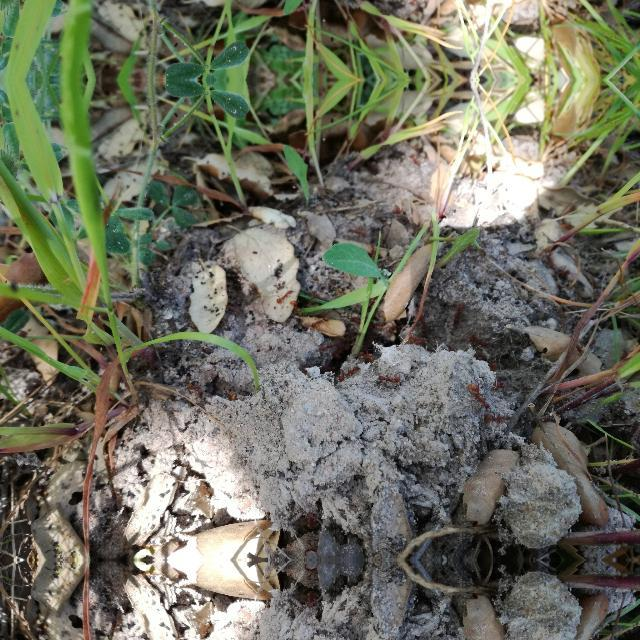Apheanogaster: (371, 202, 405, 230), (475, 408, 517, 426), (464, 379, 488, 409), (444, 298, 468, 326), (370, 372, 404, 391), (335, 362, 363, 384), (466, 332, 496, 351), (302, 506, 324, 530), (302, 590, 324, 614), (318, 332, 340, 352), (308, 312, 332, 330), (272, 286, 296, 304), (356, 342, 376, 362), (286, 296, 304, 316), (346, 226, 369, 240), (417, 310, 431, 332), (367, 318, 389, 332), (468, 244, 490, 258), (368, 240, 382, 260), (552, 265, 572, 279), (220, 388, 240, 402), (187, 382, 206, 396), (408, 333, 426, 347), (542, 248, 556, 266), (386, 322, 406, 334), (344, 329, 356, 346), (492, 378, 506, 392), (408, 152, 422, 166), (346, 315, 362, 325), (560, 221, 576, 231), (444, 343, 460, 353), (408, 0, 422, 8)
